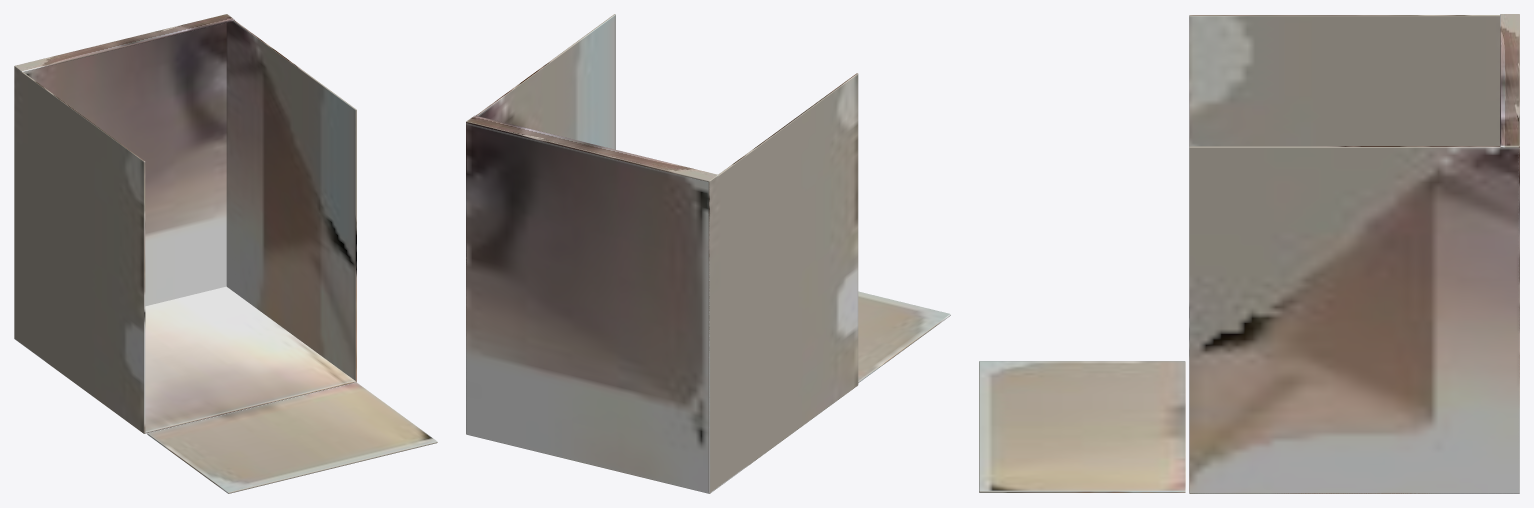
3 views of the same model, side by side, from view 1: azimuth 30°, elevation 25°; view 2: azimuth 150°, elevation 25°; view 3: azimuth 270°, elevation 25° (orthographic). The views are drawn at different scales.
Visible parts, largest first — view 1: open_white_carton__body, open_white_carton__flap; view 2: open_white_carton__body, open_white_carton__flap; view 3: open_white_carton__body, open_white_carton__flap.
Part boxes in pixels (x1,y1,x2,y2): open_white_carton__body: (14, 14, 356, 433); open_white_carton__flap: (147, 382, 437, 493); open_white_carton__body: (466, 14, 858, 493); open_white_carton__flap: (858, 291, 950, 382); open_white_carton__body: (1189, 14, 1519, 493); open_white_carton__flap: (979, 361, 1185, 492).
Size of the model in its own units: 0.0848 by 0.104 by 0.1465.
1 material, 1 textured.
